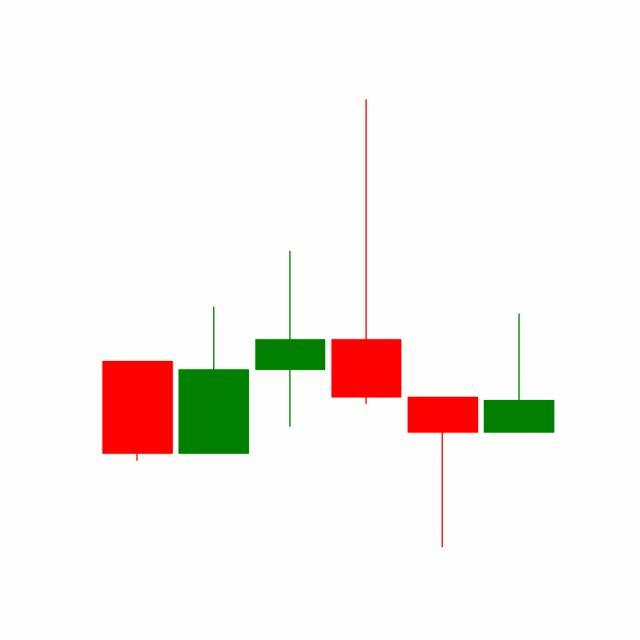Hammer: (404, 395, 482, 550)
